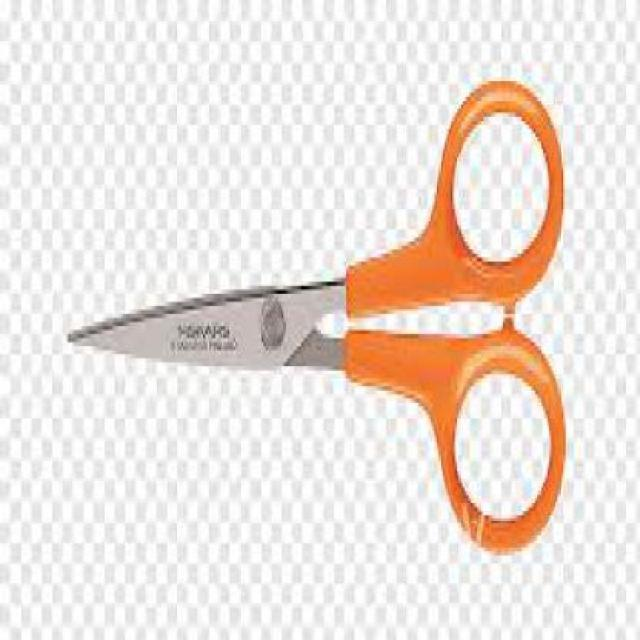scissors: (66, 80, 568, 556)
